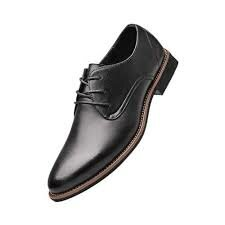Formal: (46, 21, 180, 204)
